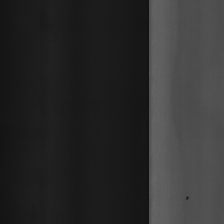inclusion: (181, 191, 192, 204)
